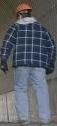boots: (0, 101, 9, 125), (13, 118, 29, 124)
gloves: (0, 61, 8, 73), (0, 51, 4, 67)
hard-hat: (16, 1, 32, 12)
vest: (0, 11, 18, 57)
